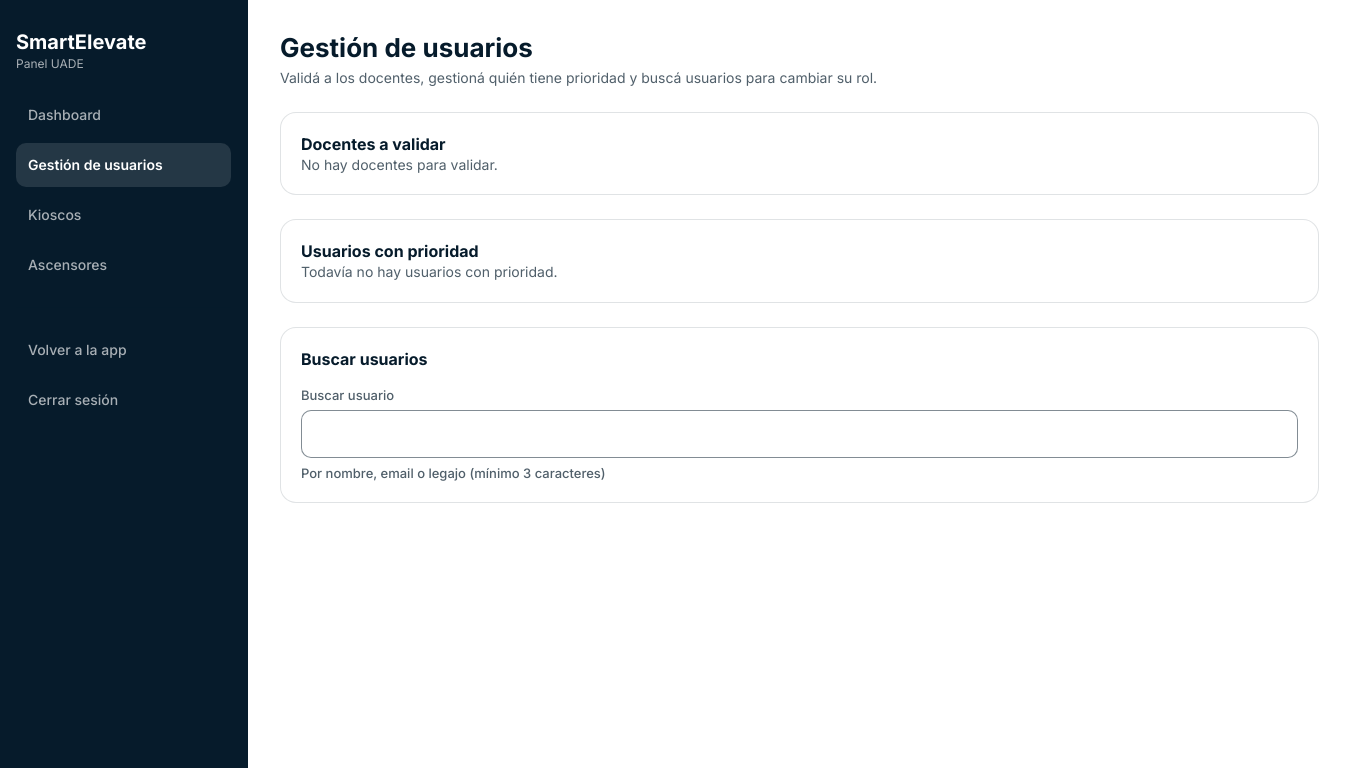
Test: Gestión de usuarios (09b) › cambiar el tipo avisa de la prioridad, manda el tipo y actualiza la fila
The image size is (1366, 768).
Type "carla" into the search field labelled "Buscar usuario" at (800, 434), box left=301, top=410, right=1298, bottom=458
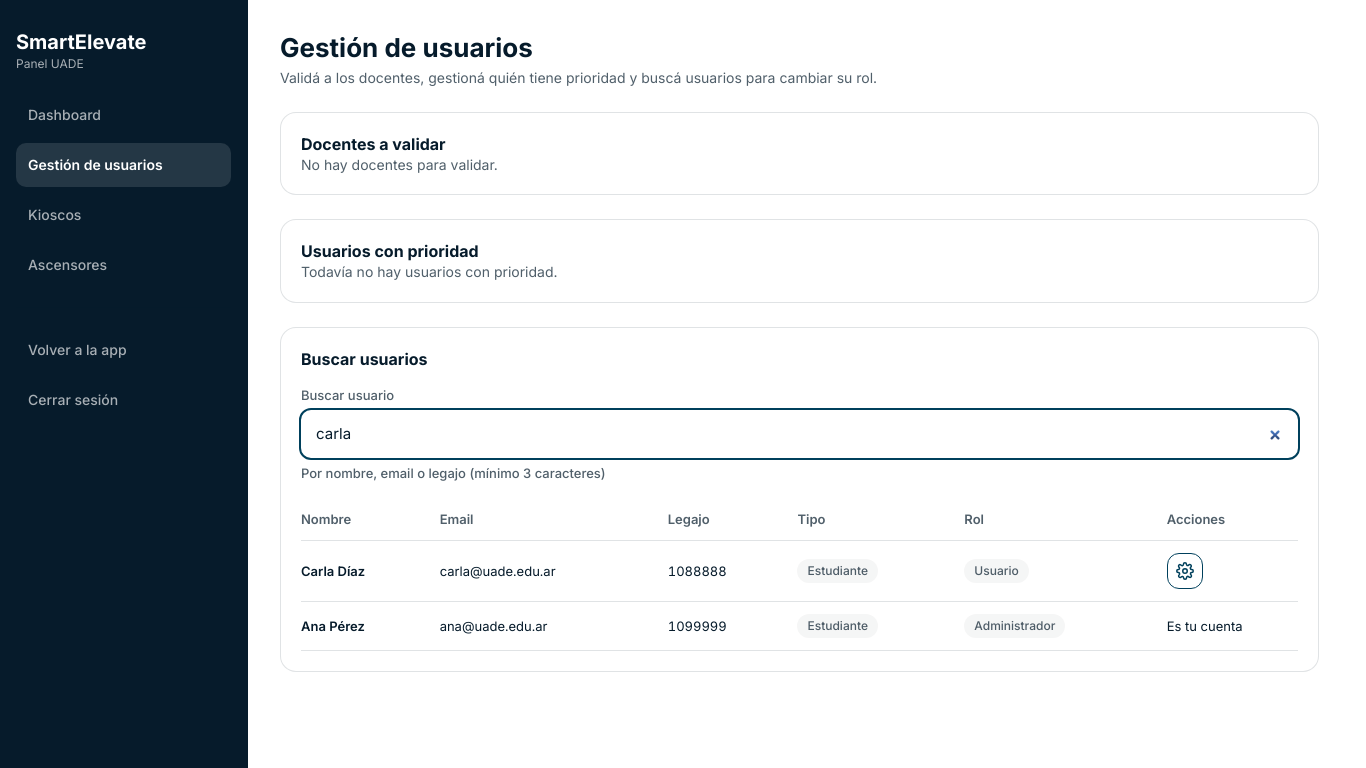
Click the button named "Gestionar usuario Carla Díaz" at (1185, 571), box left=1167, top=553, right=1203, bottom=589
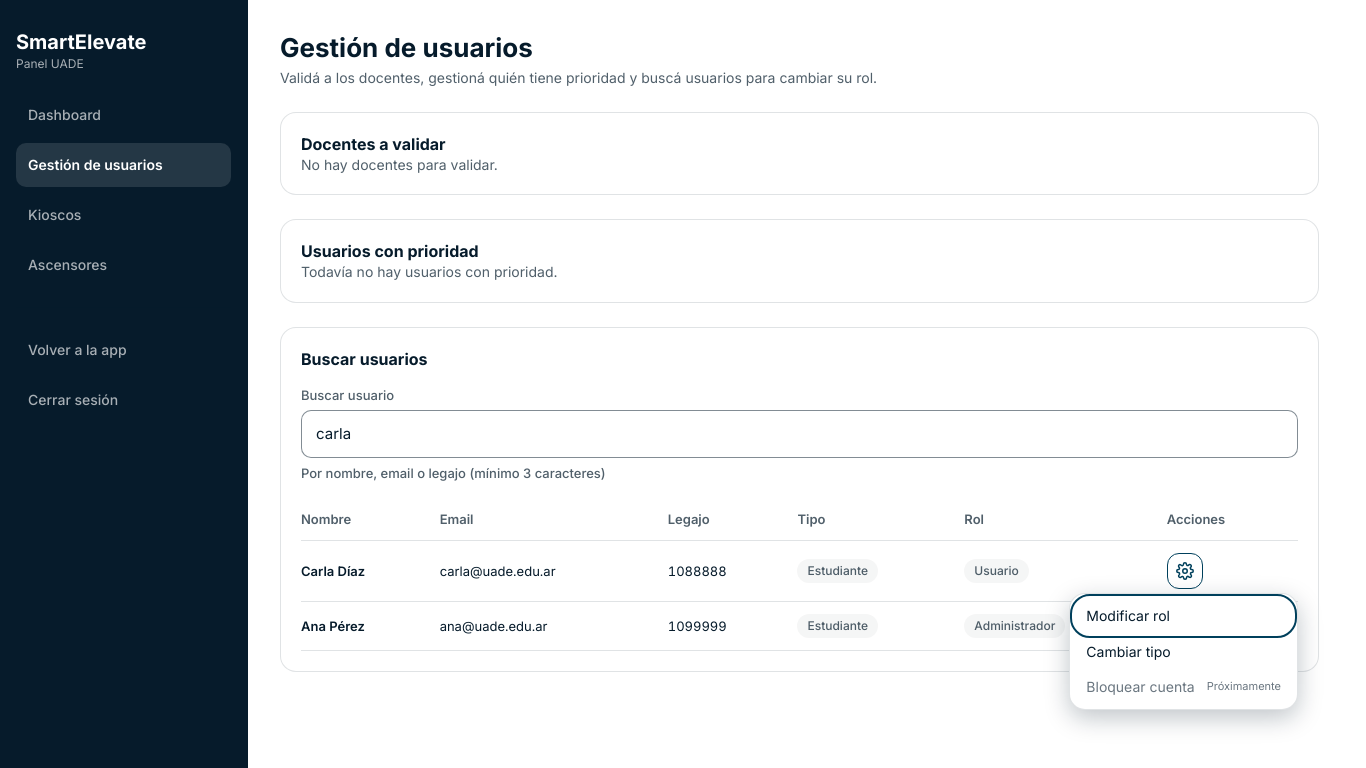
Click the menu item "Cambiar tipo" at (1184, 651), box left=1074, top=634, right=1293, bottom=669
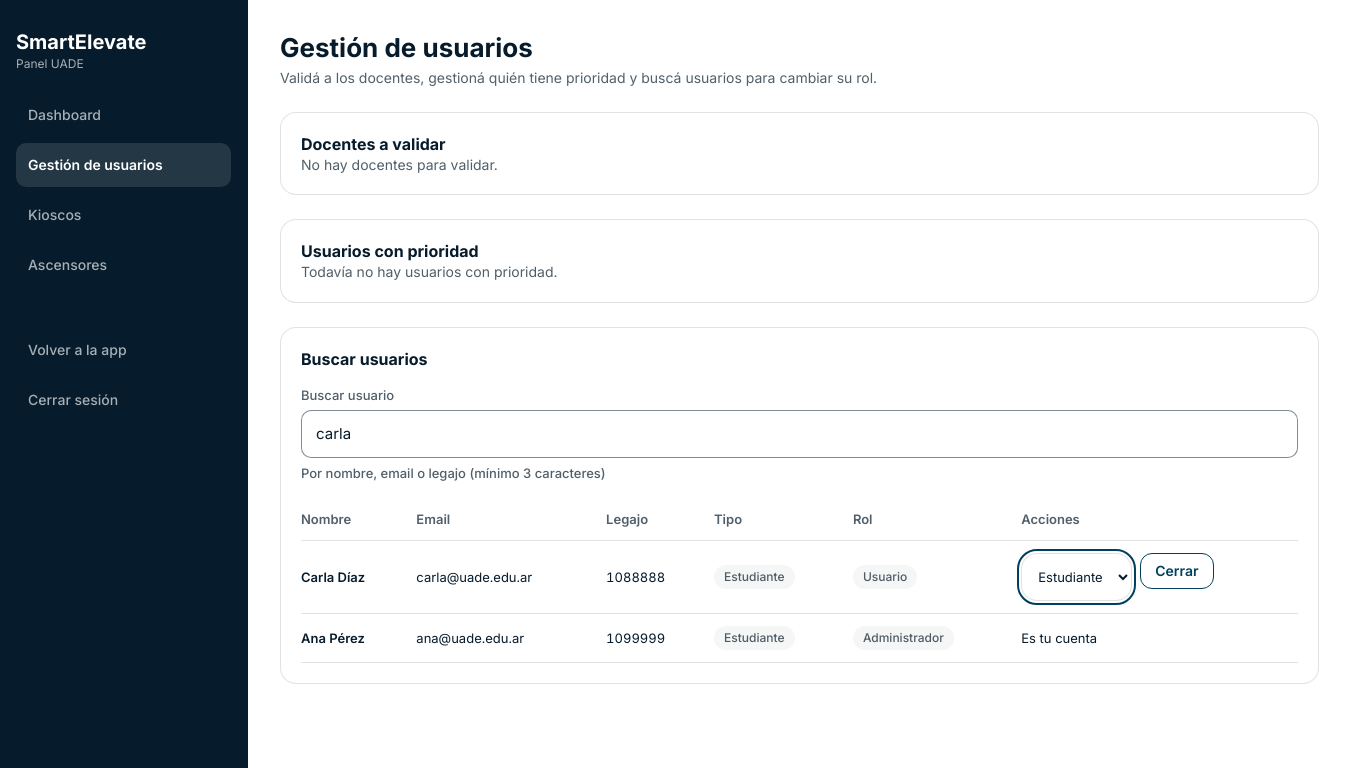
Select "Docente" in the dropdown named "Tipo de Carla Díaz" at (1077, 577), box left=1021, top=553, right=1132, bottom=601
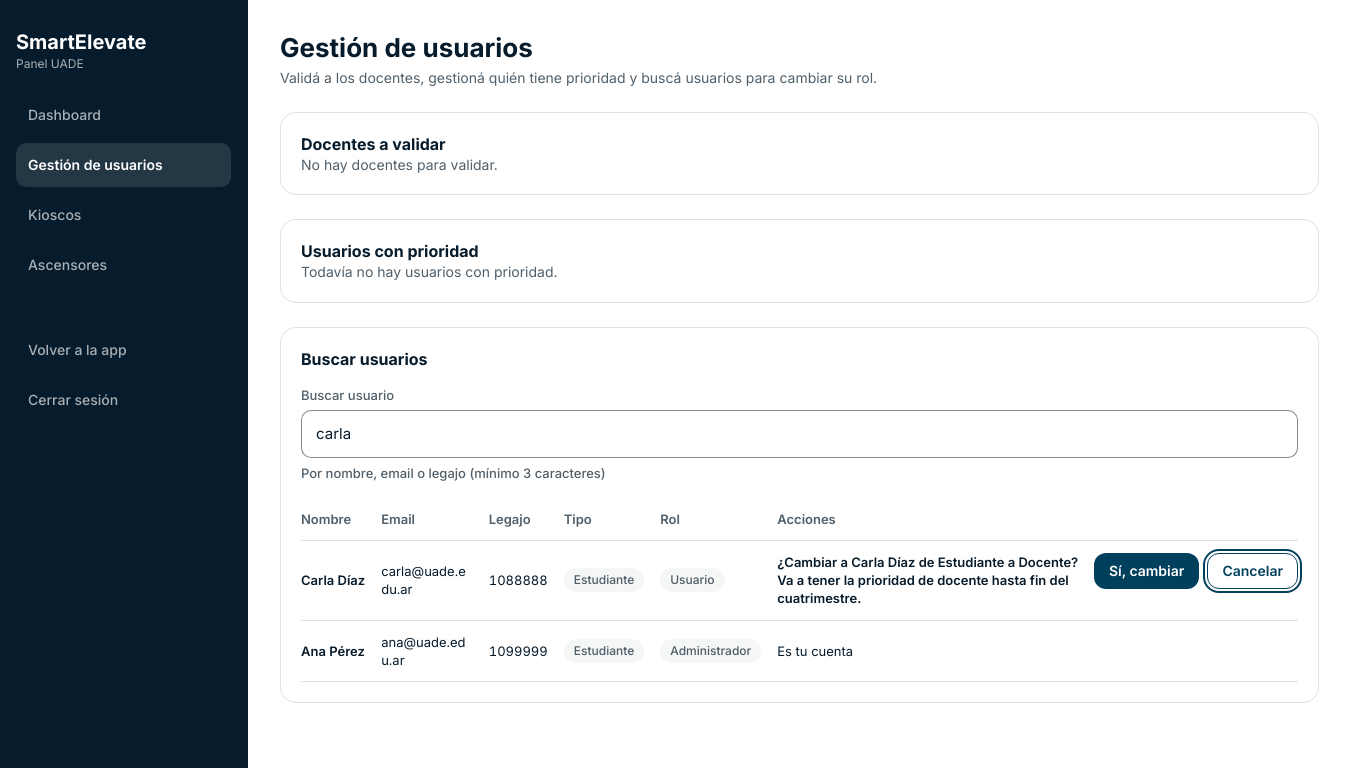
Expected: the element named "Cambiar tipo de Carla Díaz" shows "¿Cambiar a Carla Díaz de Estudiante a Docente? Va a tener la prioridad de docente hasta fin del cuatrimestre.", left=777, top=553, right=1298, bottom=608
Click the button "Sí, cambiar" at (1147, 571), box left=1094, top=553, right=1199, bottom=589
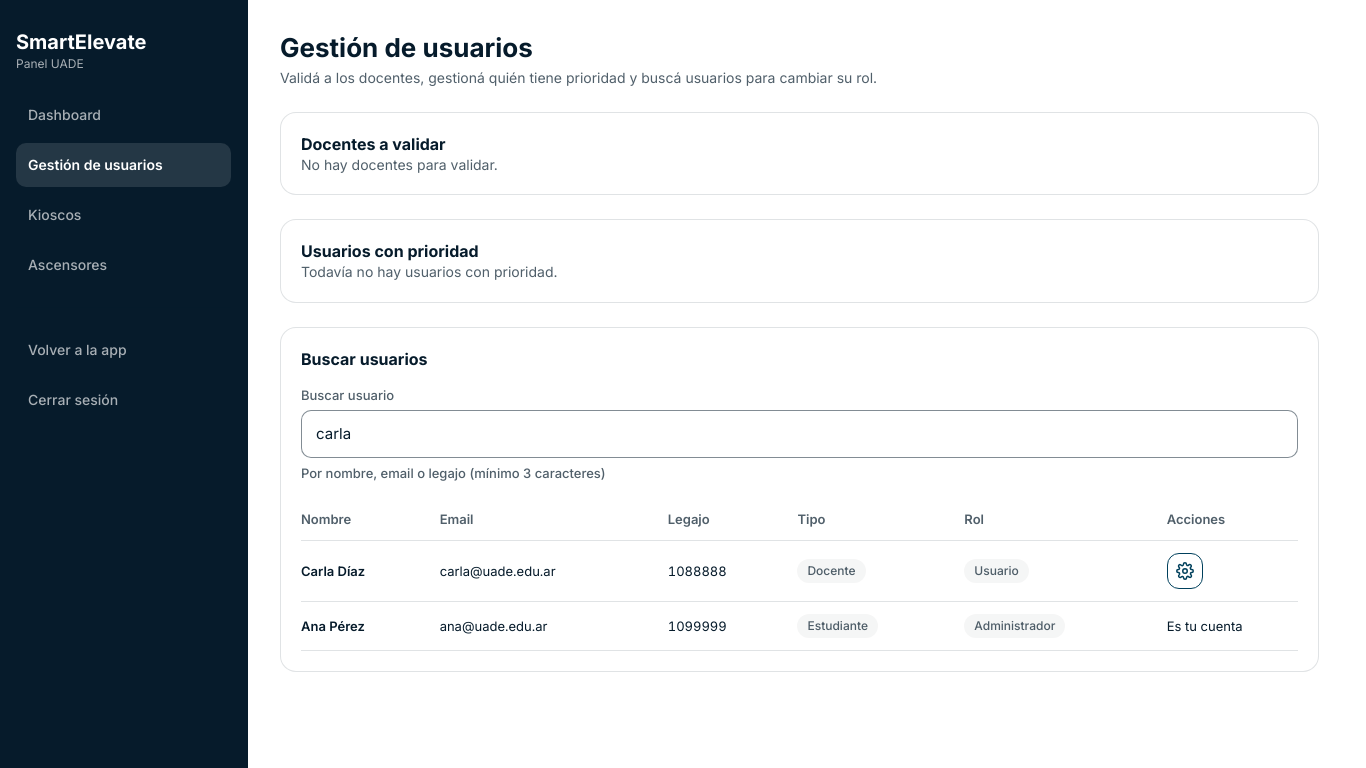
Expected: the text "Docente" is shown, left=797, top=559, right=866, bottom=583
